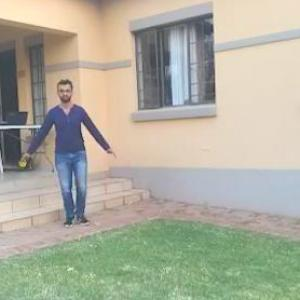land: (25, 91, 119, 240)
